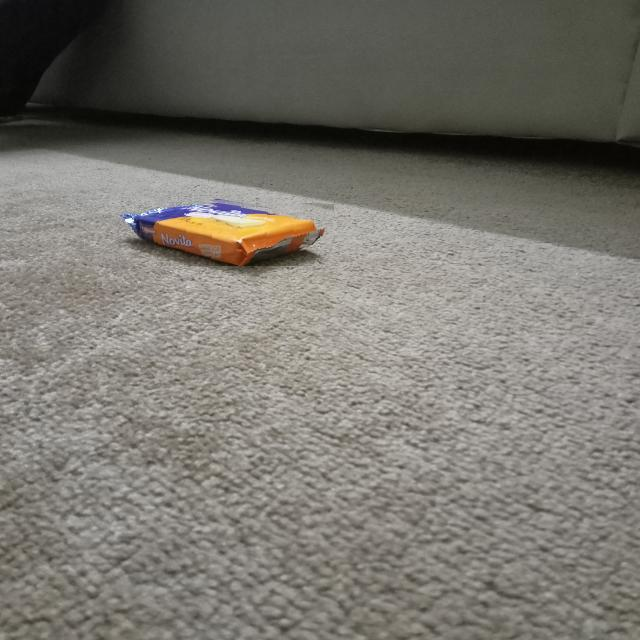Plastic: (119, 196, 334, 266)
